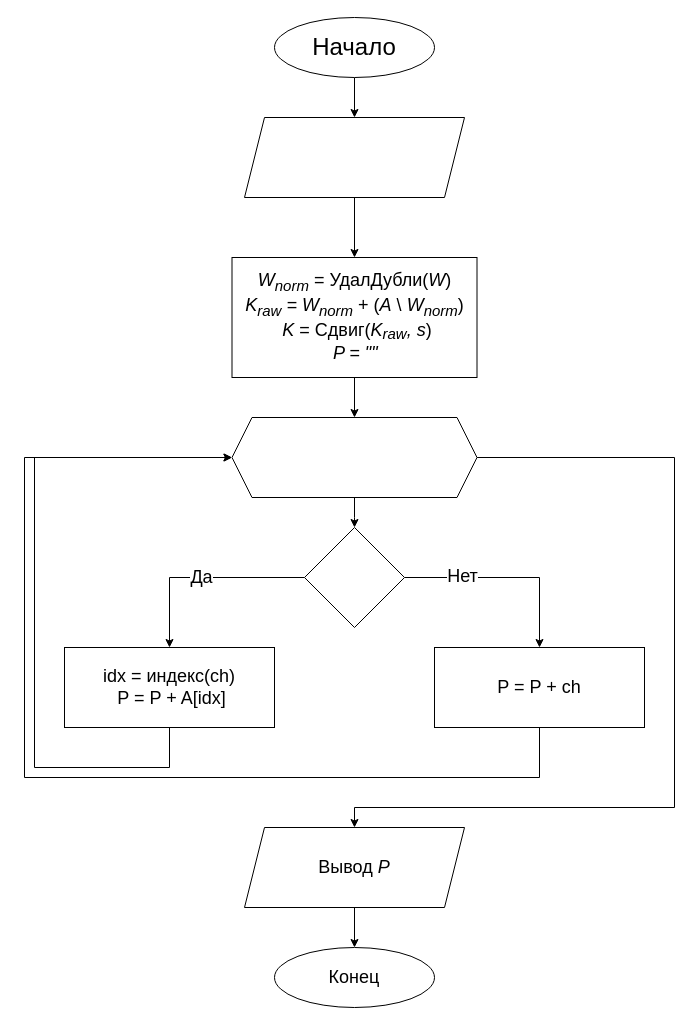
Some shapes in this 700 by 1025 pixel diagram are drawn without their labels. Here are the shapes that lost their labels. From the top down, the box of each, then its label:
(244, 116, 464, 198): Ввод C, W, s, A
(231, 416, 477, 498): Цикл: Для каждого ch из C .
(304, 526, 404, 628): ch ∈ K
